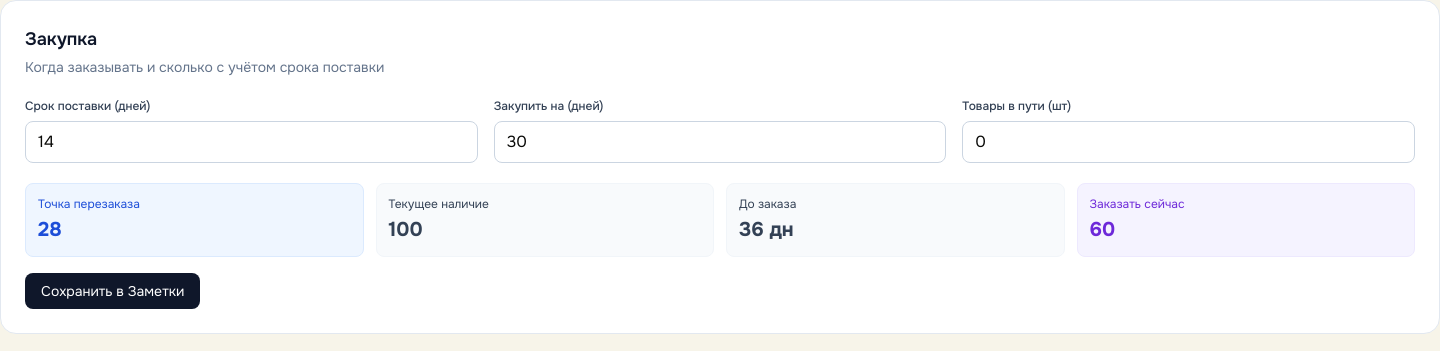
it: ReorderPanel — «Сохранить в Заметки» › ошибка записи заметок показывает «ошибка»
What coordinates should you click on to do the following:
click the button "Сохранить в Заметки"
I would click on:
 (113, 291)
Its box is top-left (25, 273), bottom-right (200, 309).
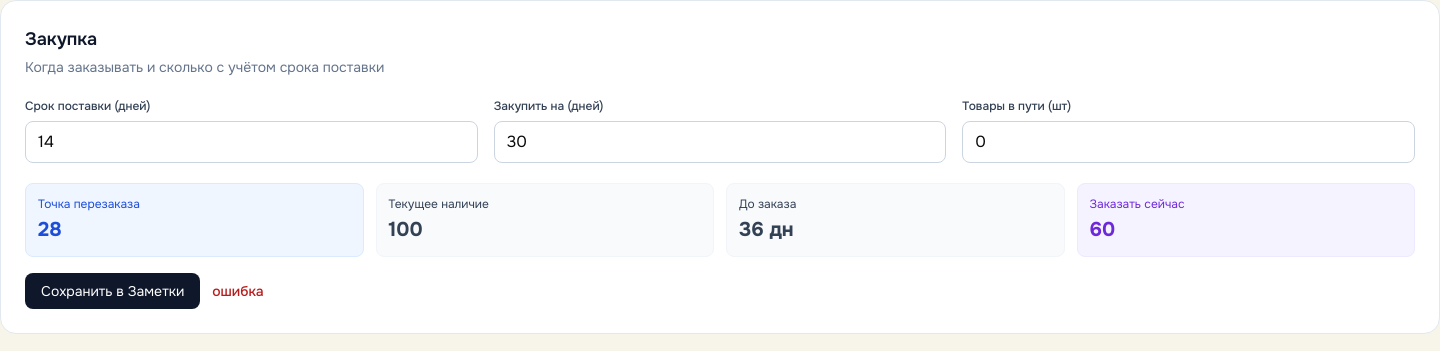
Check: the text "ошибка" is shown, box top-left (212, 281), bottom-right (264, 301)
